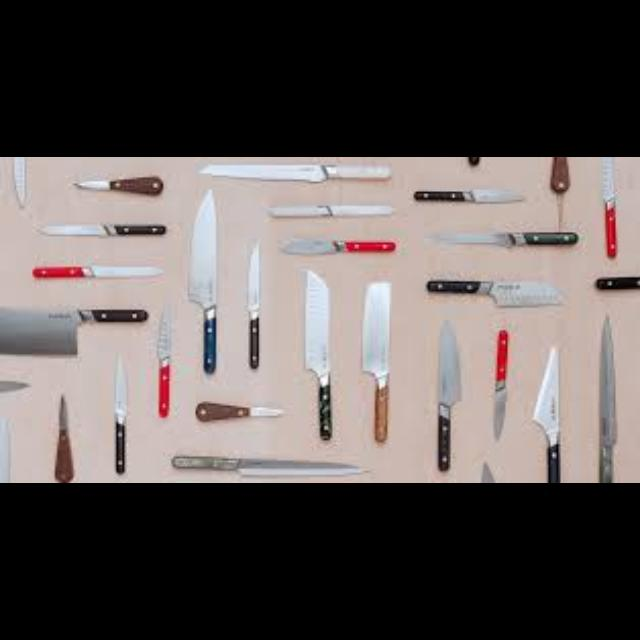knife: (0, 304, 146, 354), (186, 188, 216, 372), (361, 282, 389, 440), (304, 270, 330, 438), (530, 347, 560, 481), (170, 455, 370, 475), (481, 329, 507, 481), (196, 161, 392, 181), (426, 280, 564, 306), (597, 314, 617, 482), (436, 318, 458, 470), (424, 231, 578, 247), (277, 237, 395, 253), (33, 222, 165, 236), (193, 400, 284, 420), (491, 328, 507, 440), (53, 394, 73, 481), (72, 176, 162, 194), (31, 265, 163, 277), (412, 188, 522, 202), (247, 239, 259, 367), (263, 204, 391, 216), (114, 351, 126, 473), (548, 157, 568, 230), (601, 158, 615, 256), (157, 306, 169, 416), (10, 157, 28, 207), (550, 157, 568, 191), (479, 461, 495, 481)
